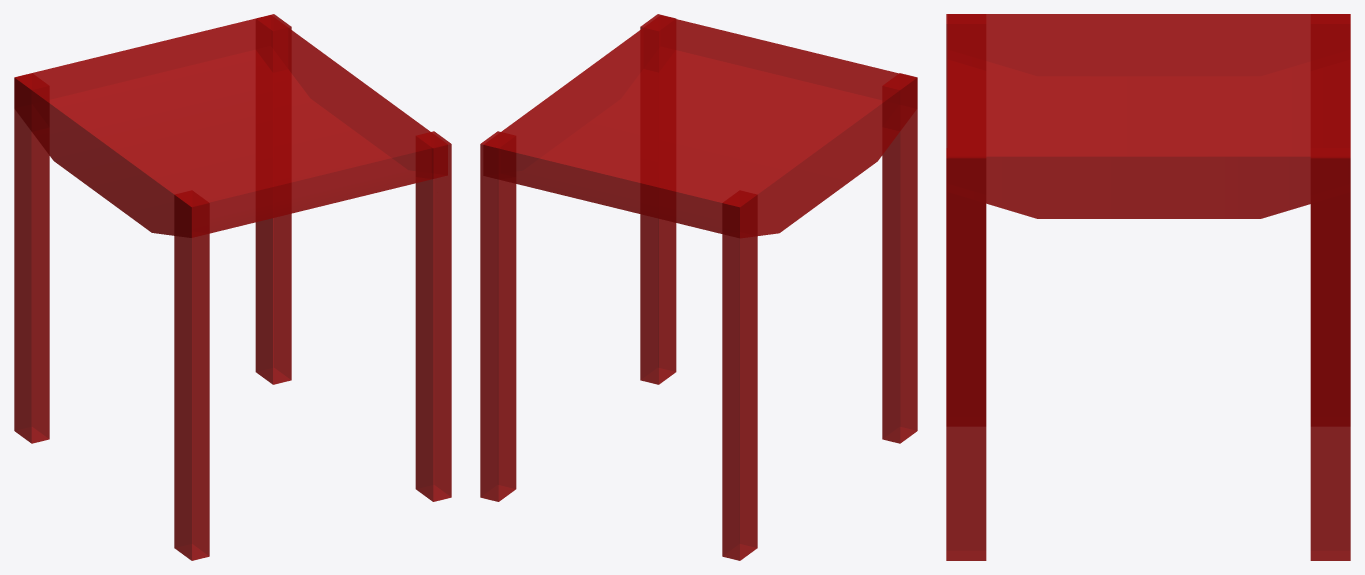
The model's file is SM_Bld_Village_ClothCover_04_Collision.fbx.
3 views of the same model, side by side, from view 1: azimuth 30°, elevation 25°; view 2: azimuth 150°, elevation 25°; view 3: azimuth 270°, elevation 25° (orthographic). The views are drawn at different scales.
Parts seen in each view (by area): view 1: SM_Bld_Village_ClothCover_04_Collision; view 2: SM_Bld_Village_ClothCover_04_Collision; view 3: SM_Bld_Village_ClothCover_04_Collision.
Boxes of the visible parts, x1,y1,x2,y2 form: SM_Bld_Village_ClothCover_04_Collision: [14, 14, 451, 560]; SM_Bld_Village_ClothCover_04_Collision: [480, 14, 917, 560]; SM_Bld_Village_ClothCover_04_Collision: [946, 14, 1350, 560].
Bounding box in the file's own units: 214 × 278 × 253.
